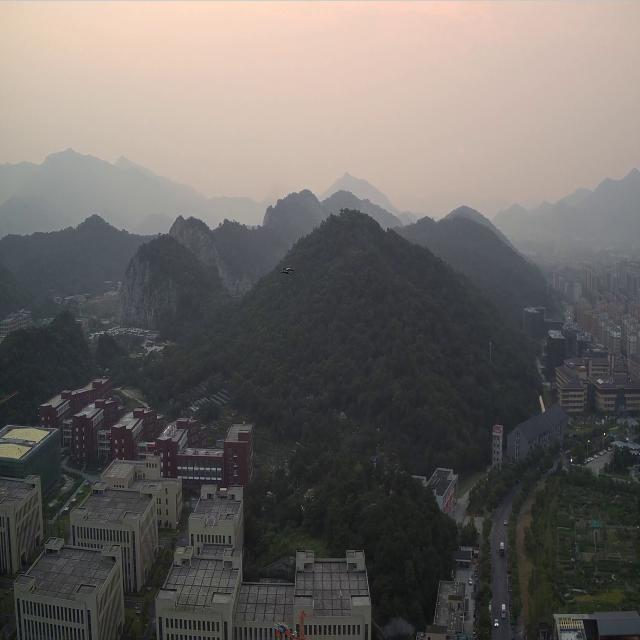UAV: (279, 266, 296, 276)
